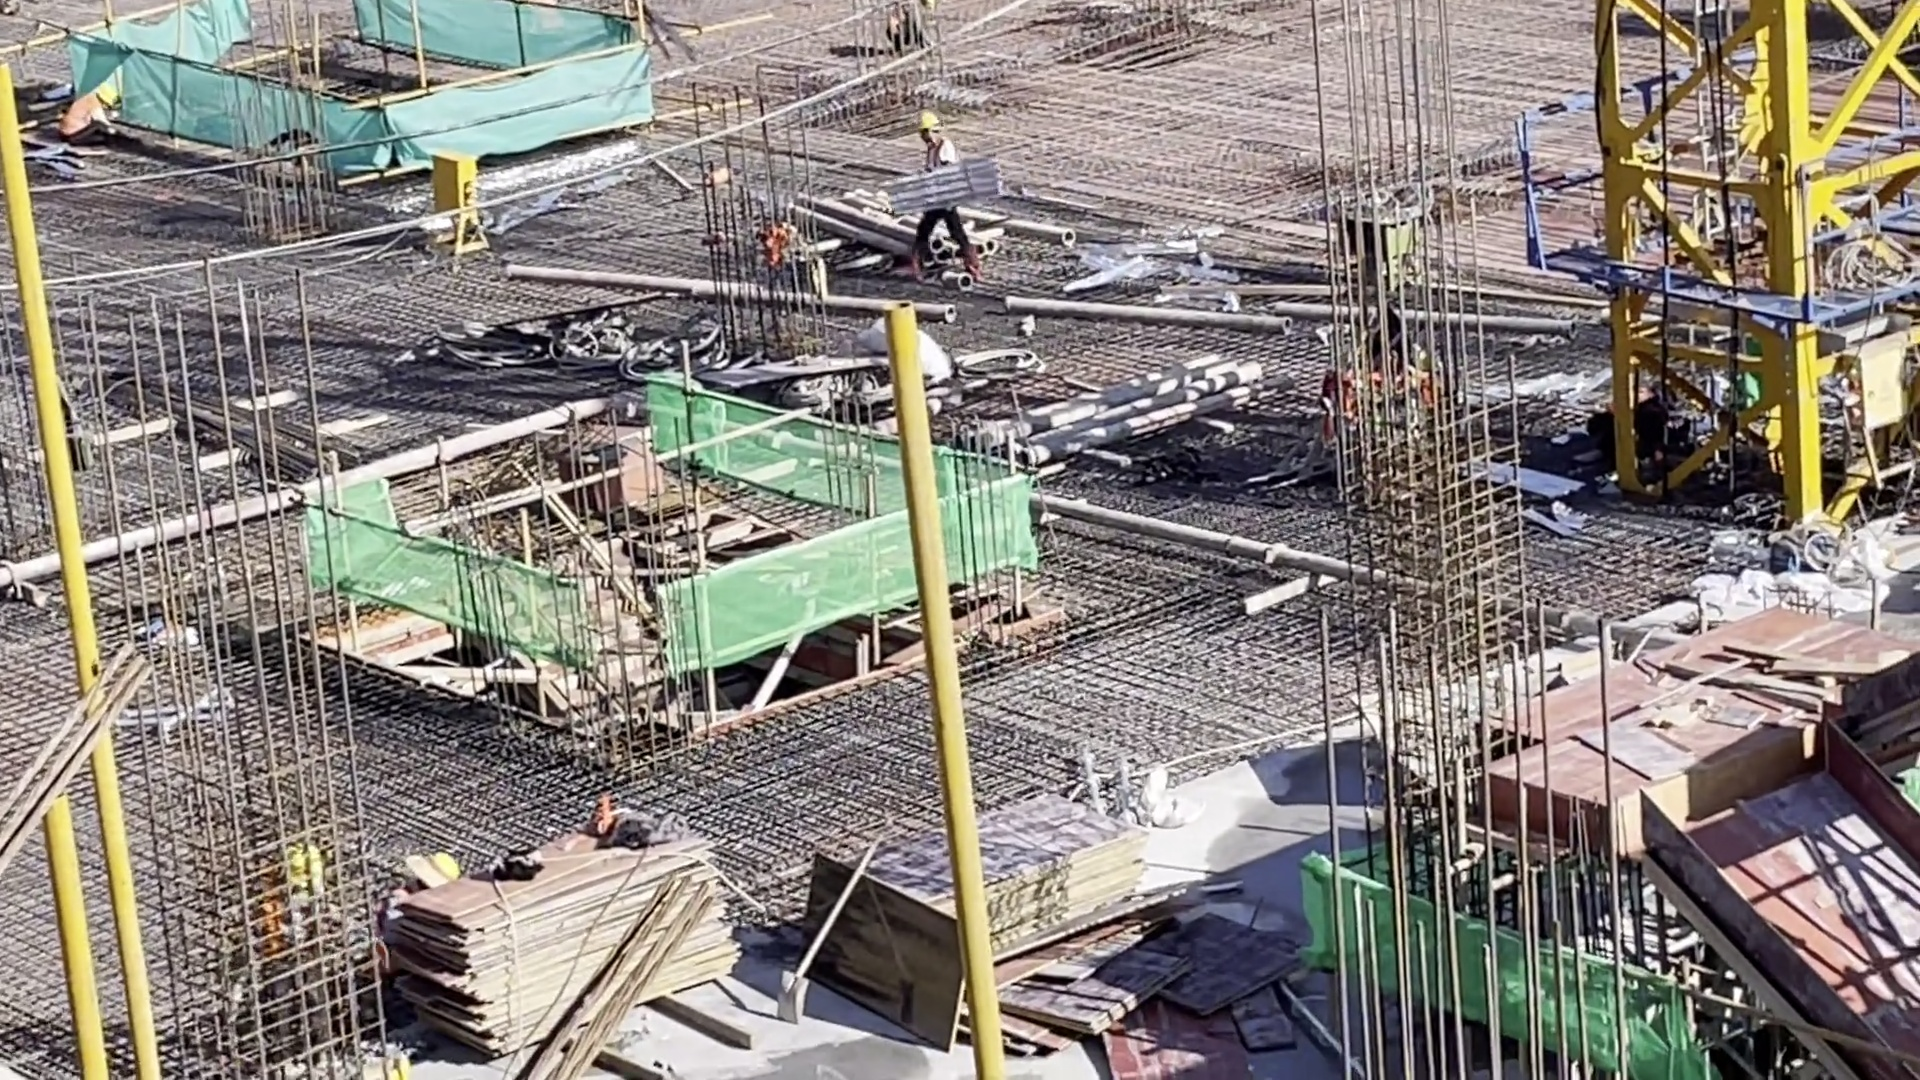helmet: (273, 839, 336, 894), (418, 831, 466, 891), (911, 107, 951, 139), (93, 78, 122, 110)
person: (250, 824, 384, 992), (899, 94, 984, 298), (56, 66, 136, 148)
vest: (68, 85, 113, 135)
